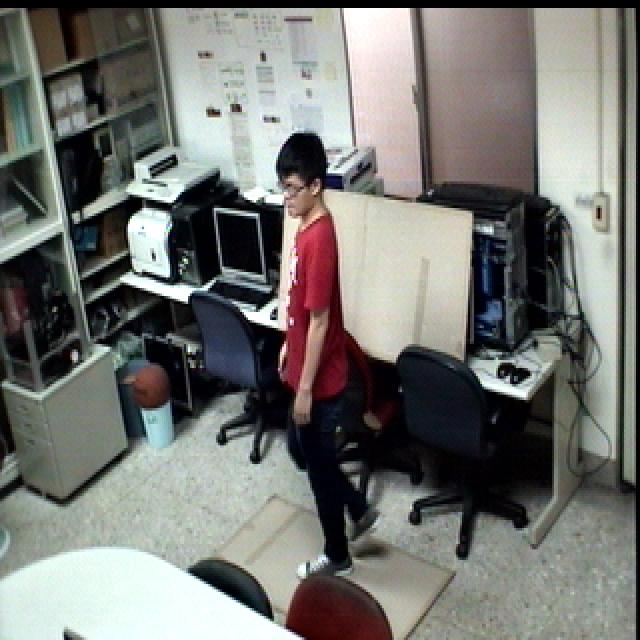stand: (262, 125, 387, 601)
